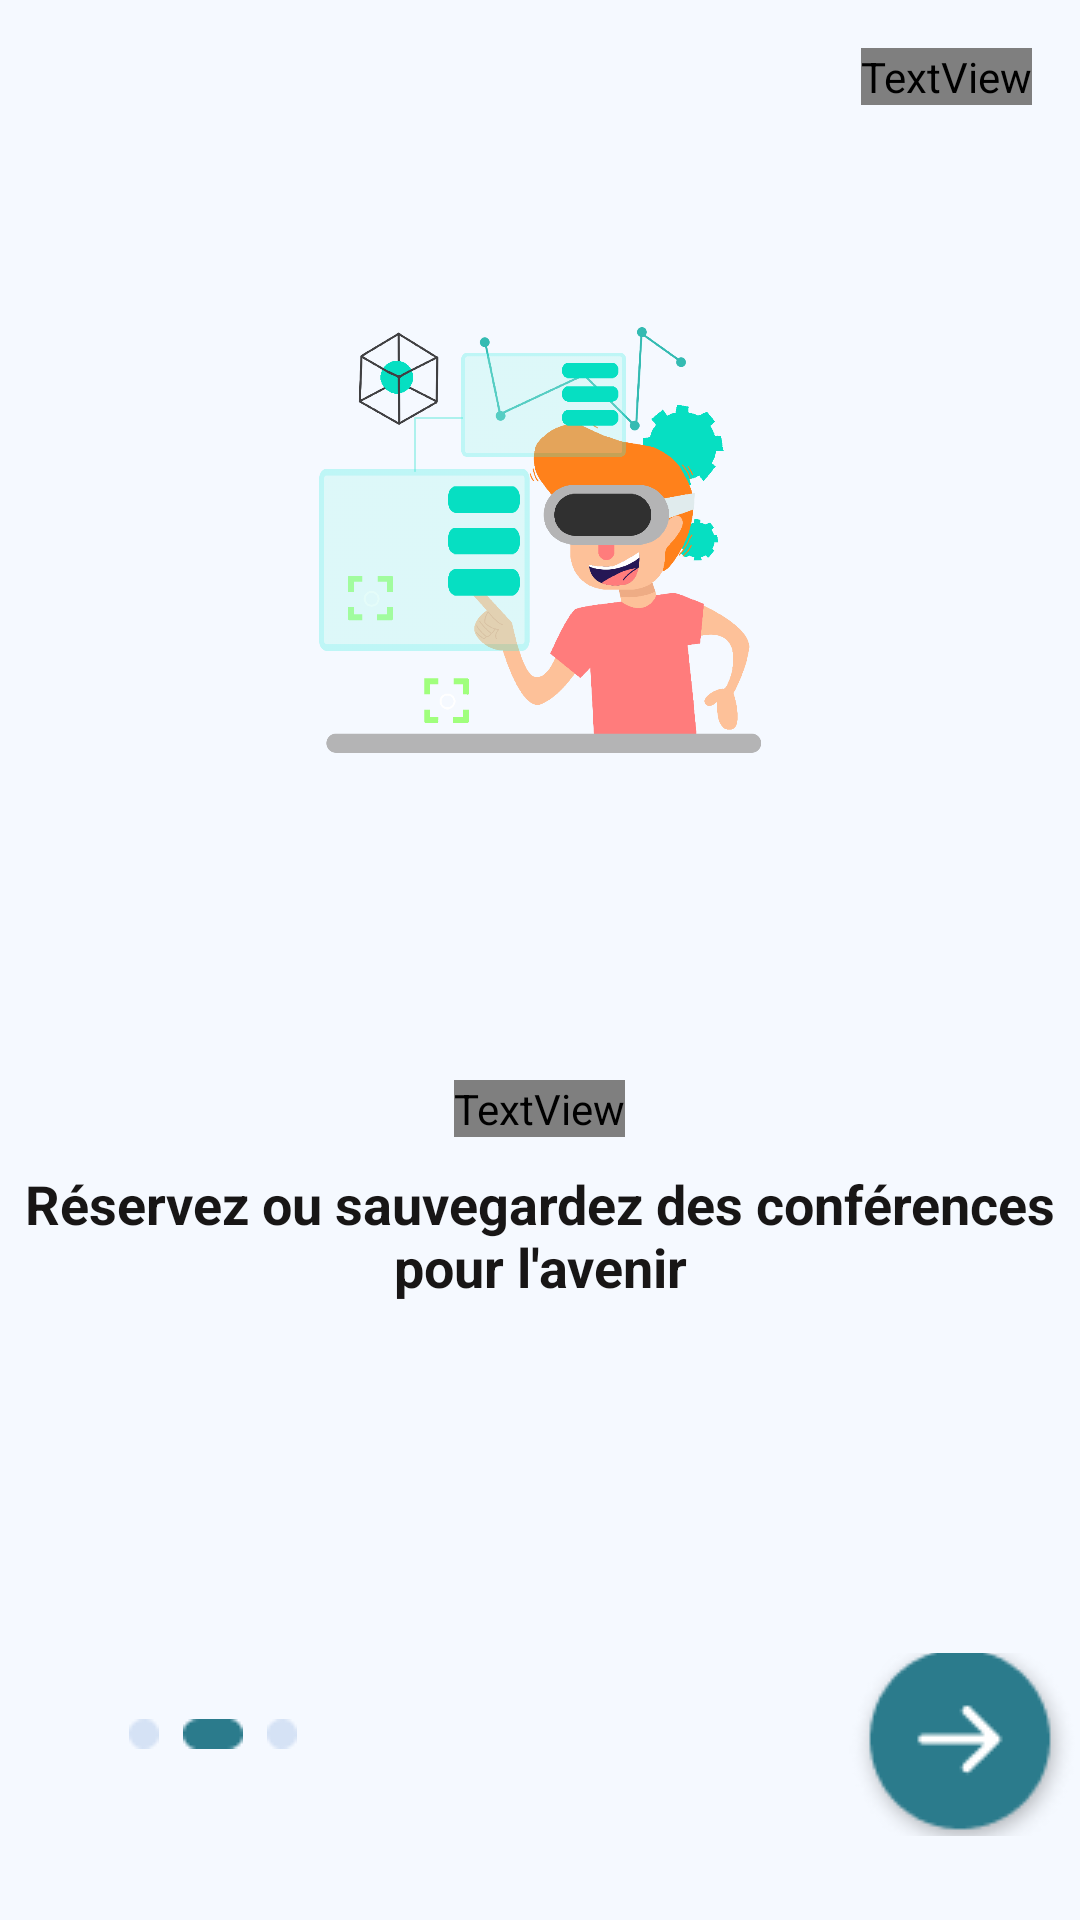

Locate icon controls on the screen. Image size 1080w x 1920h, boxes as (x1, y1, x2, y2).
nexte: (869, 1653, 1057, 1836)
